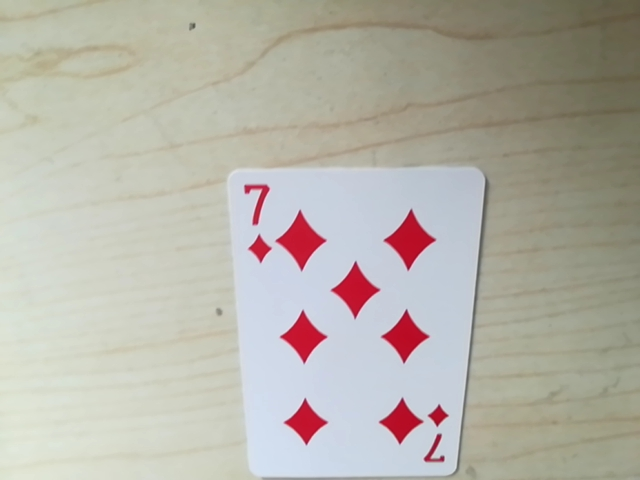fk 7: (416, 409, 450, 474), (236, 174, 275, 217)
